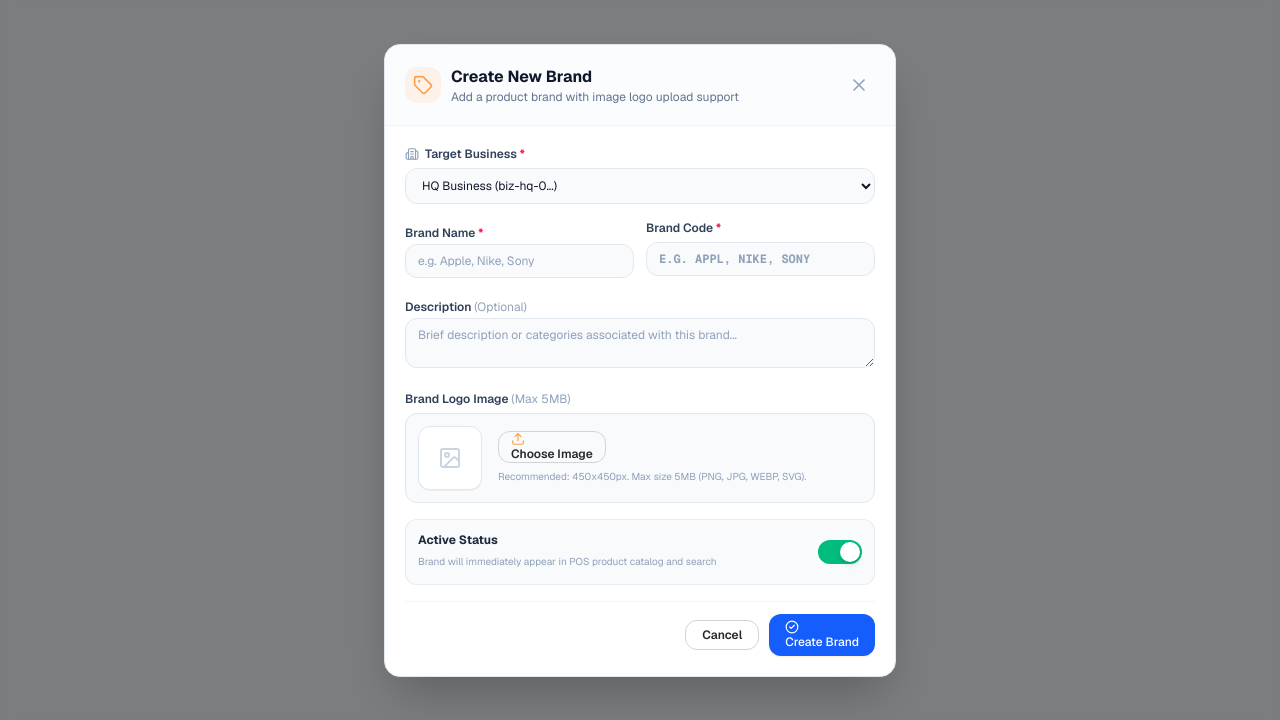
Test case: CreateBrandModal Component › validates required fields on empty submit
Click the button "Create Brand": [822, 634] box [769,614,875,656]
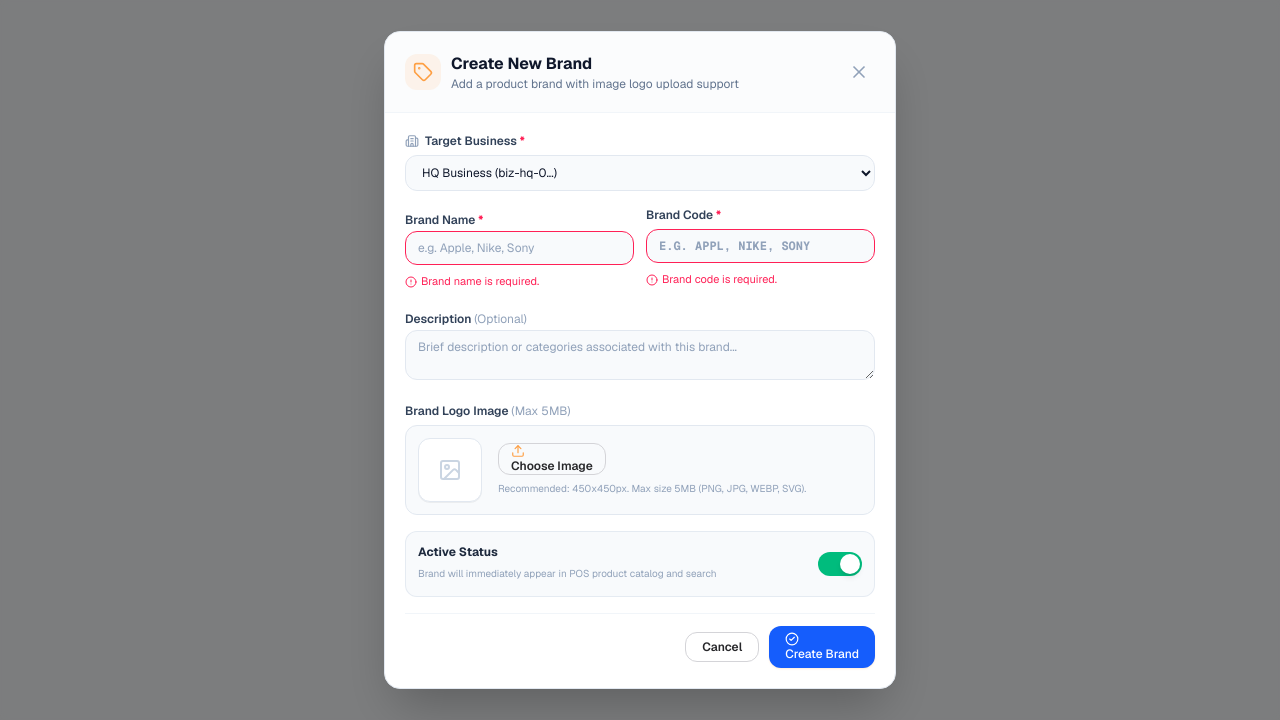
Expected: the text "Brand name is required." is shown, [405,274,539,288]
Expected: the text "Brand code is required." is shown, [646,272,777,286]
